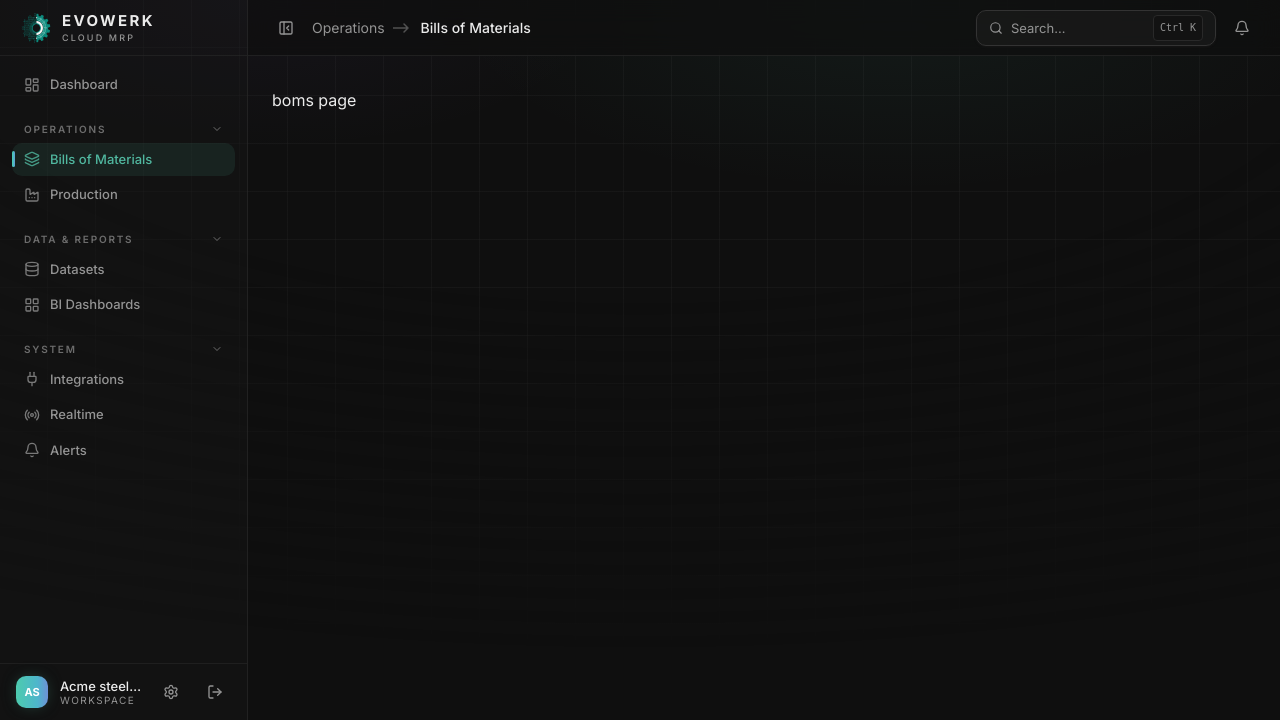
Test case: AppShell › notifications closes on Escape and on an outside click
Click the button named "Notifications": click(1242, 28) 1224,10 -> 1260,46
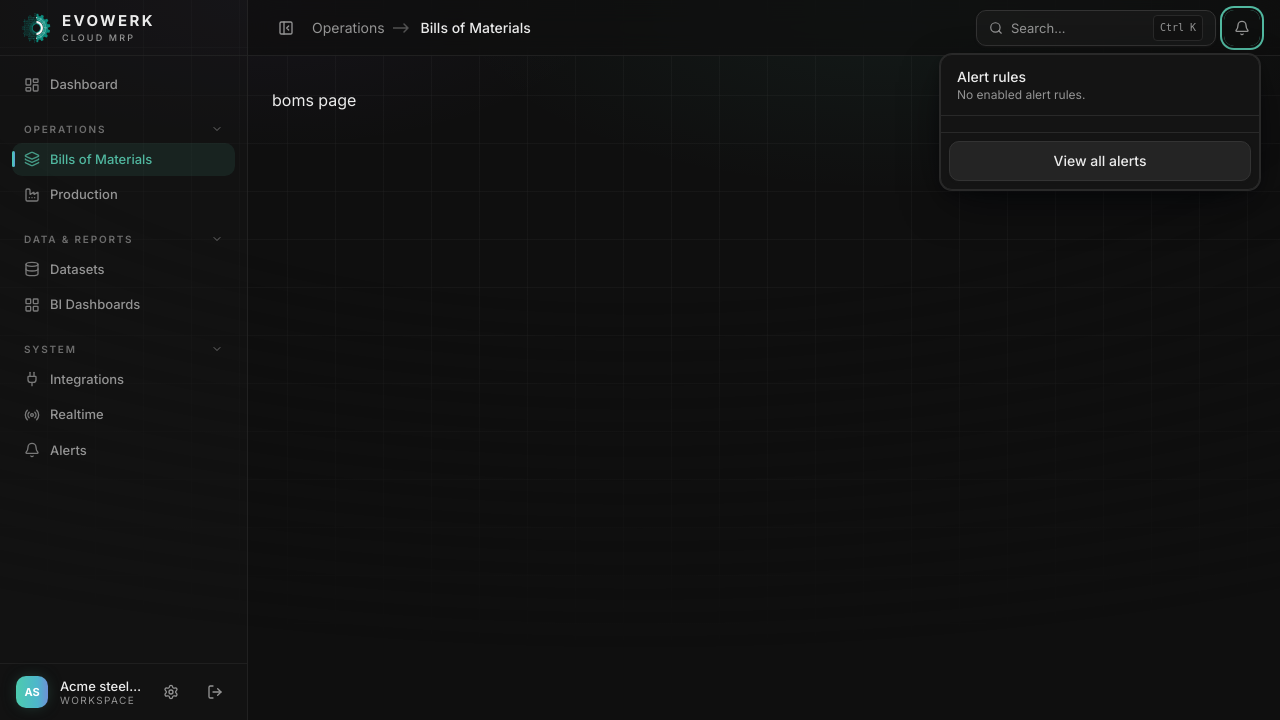
Result: the text "No enabled alert rules." is shown at 957,86 -> 1085,102
Press Escape
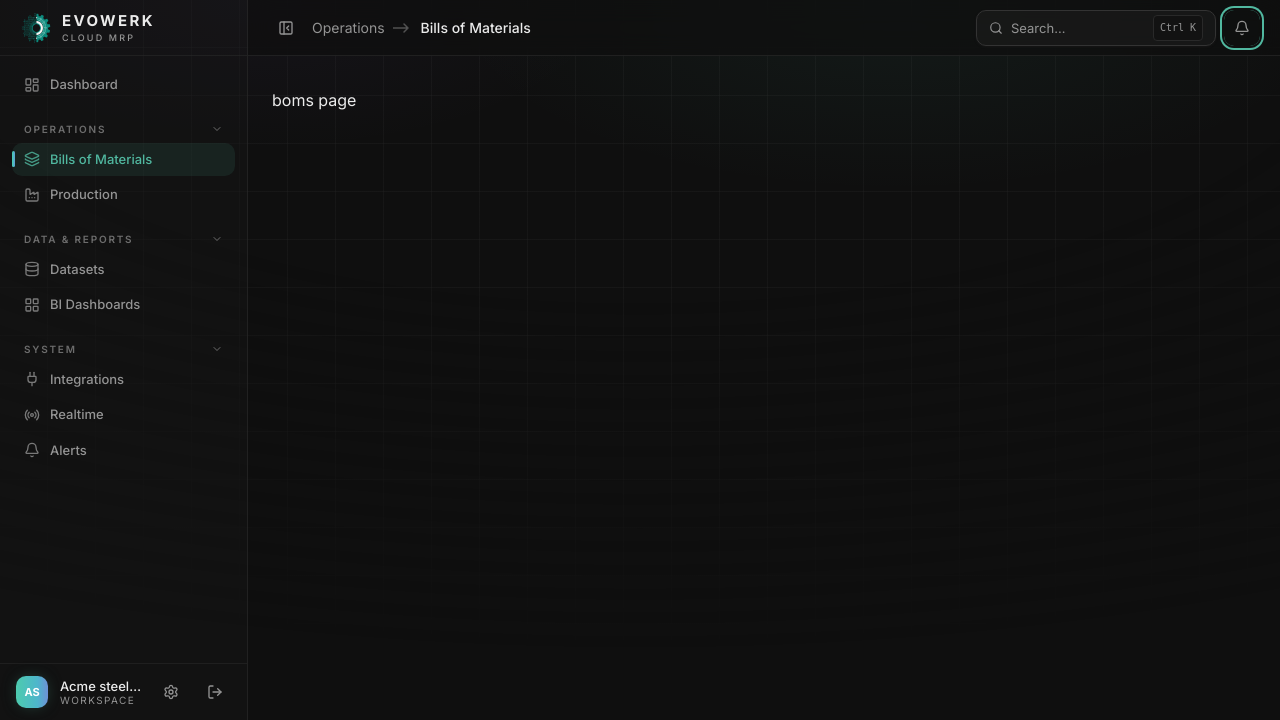
Result: the text "Alert rules" is gone
Click the button named "Notifications": click(1242, 28) 1224,10 -> 1260,46
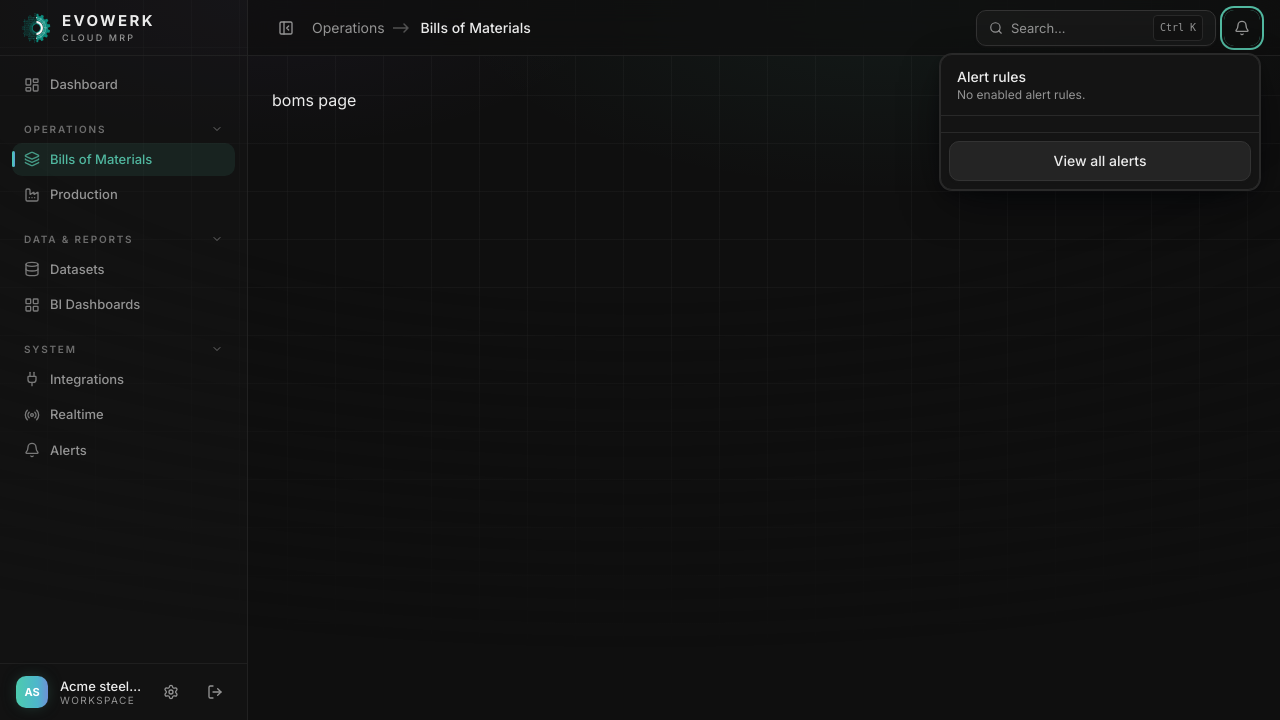
Result: the text "Alert rules" is shown at 957,68 -> 1026,84
Press the mouse on the text "boms page": (314, 100) 272,90 -> 356,110
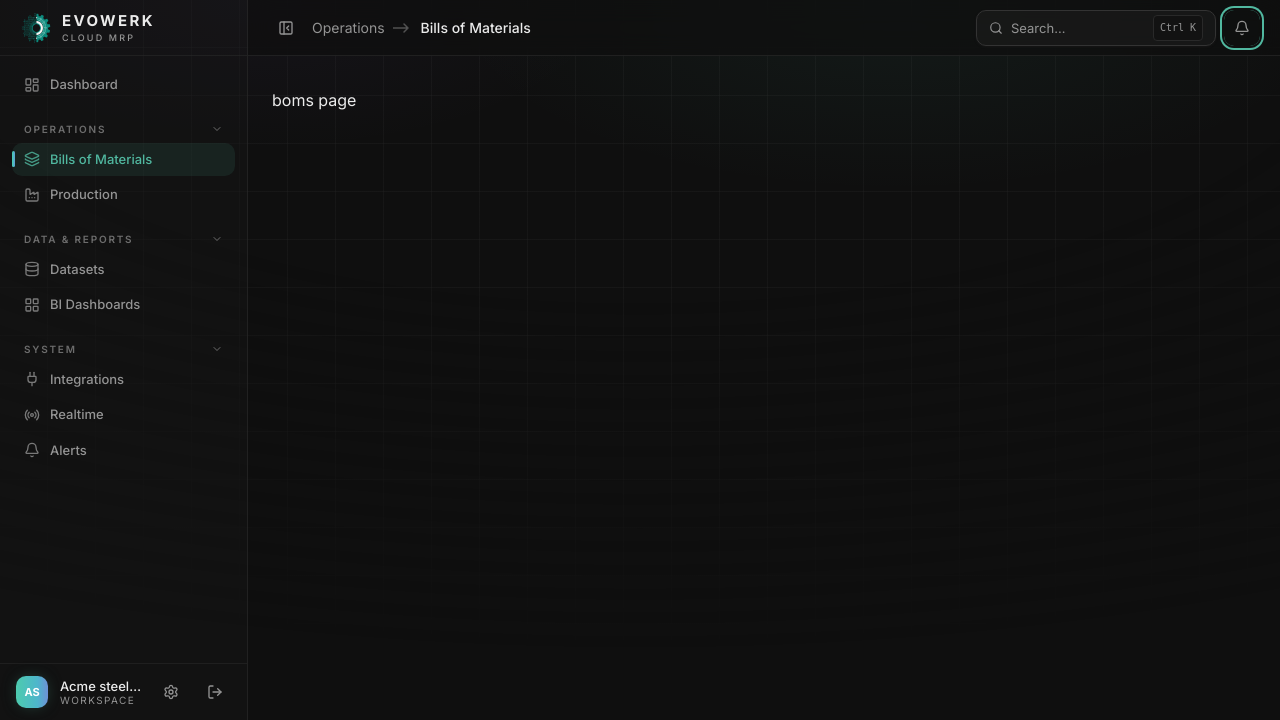
Result: the text "Alert rules" is gone
